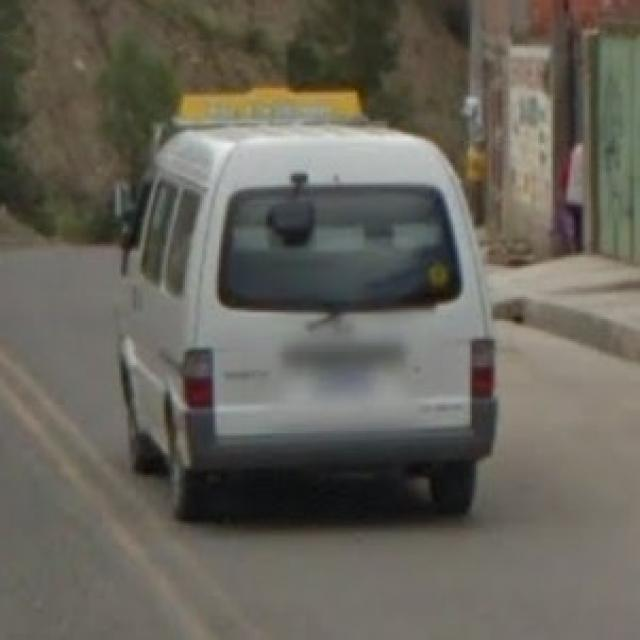Car: (118, 123, 499, 514)
